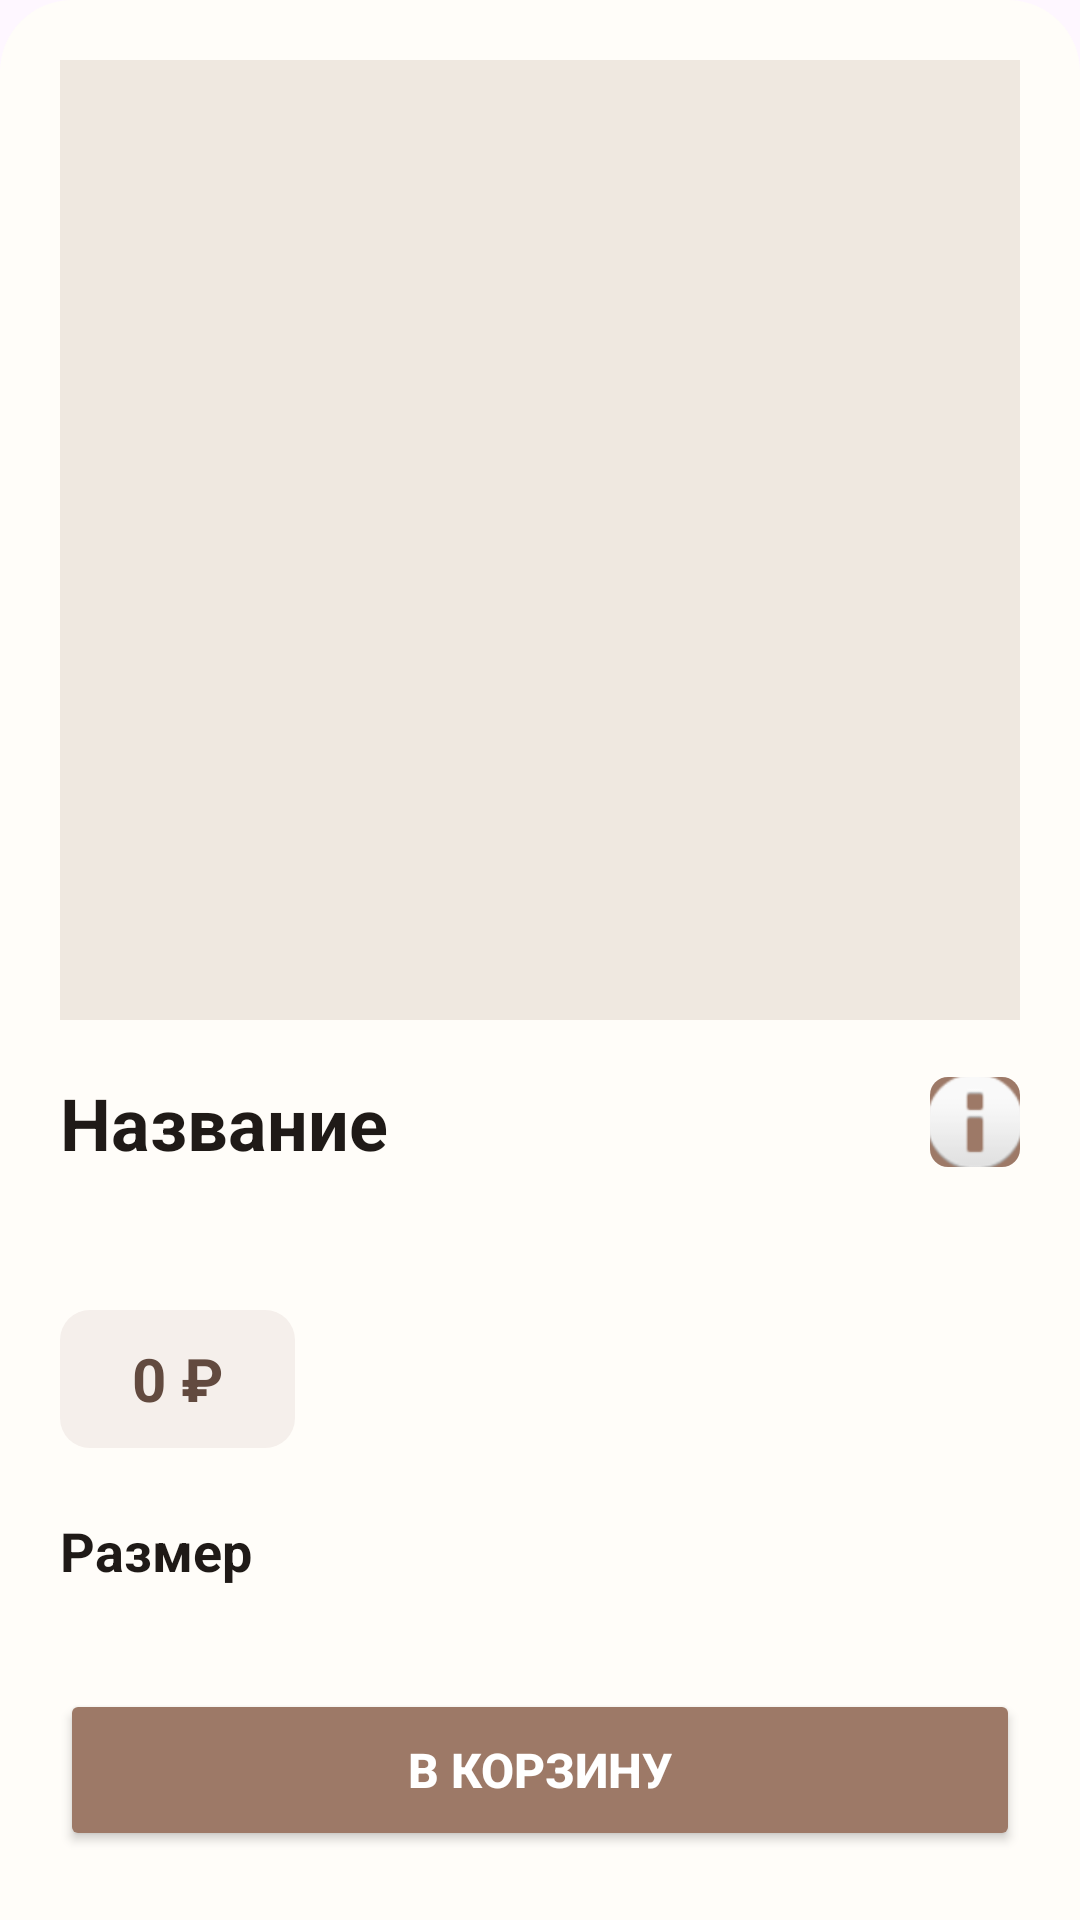

Icon click points for this 1080 x 1920 phone screenshot, format (x=x, y=y):
info: (x=975, y=1122)
